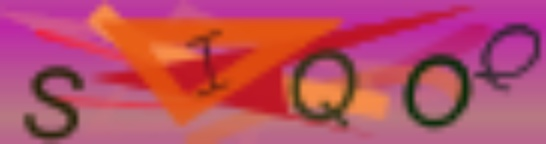I: (183, 25, 234, 102)
O: (400, 52, 475, 135)
Q: (289, 47, 364, 132), (472, 17, 544, 96)
S: (18, 64, 90, 144)
